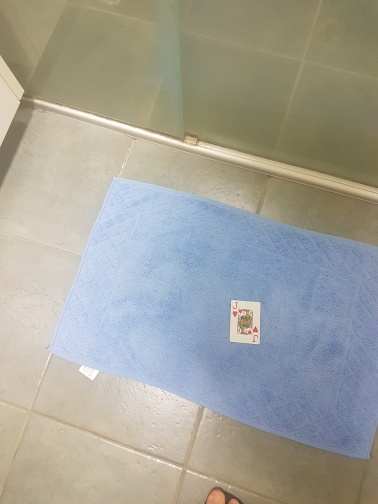jack: (228, 299, 263, 346)
